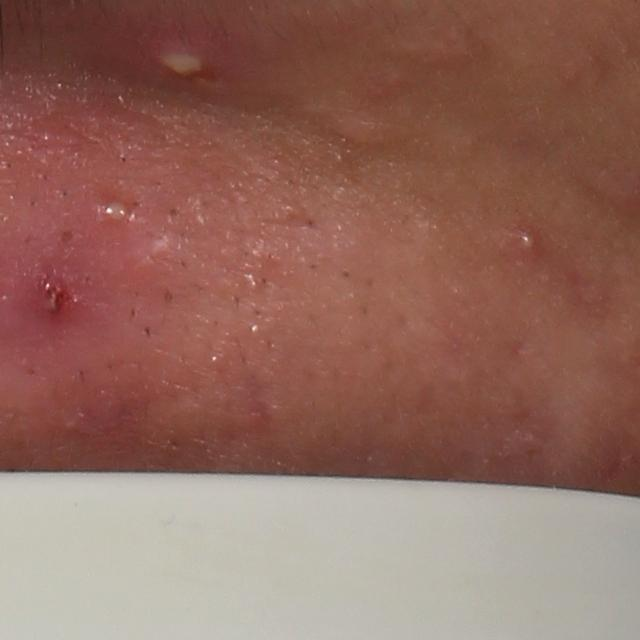hypertrophic_scar: (376, 27, 496, 76), (318, 108, 408, 152)
papule: (33, 272, 74, 323)
pustule: (104, 19, 240, 101), (507, 224, 542, 258), (97, 196, 132, 228)
